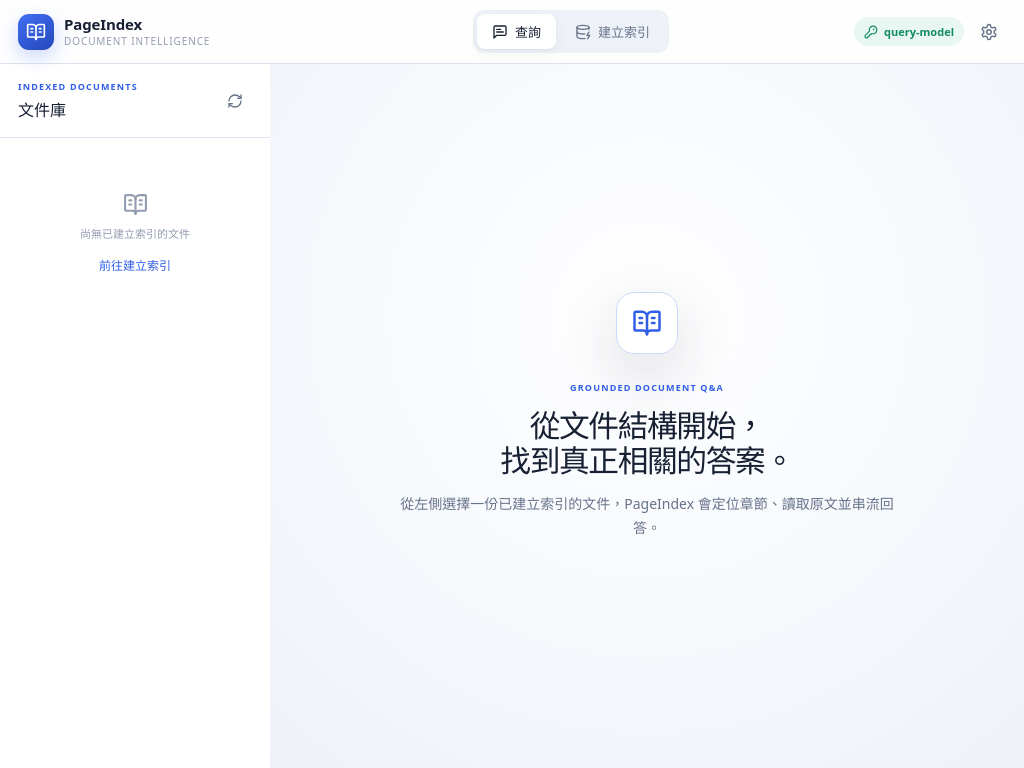
Test: App › shows the model used by the active main tab
The width and height of the screenshot is (1024, 768).
Expected: the text "query-model" is shown, [854,17,964,46]
Click the button "建立索引".
click(612, 32)  # box [560,14,665,49]
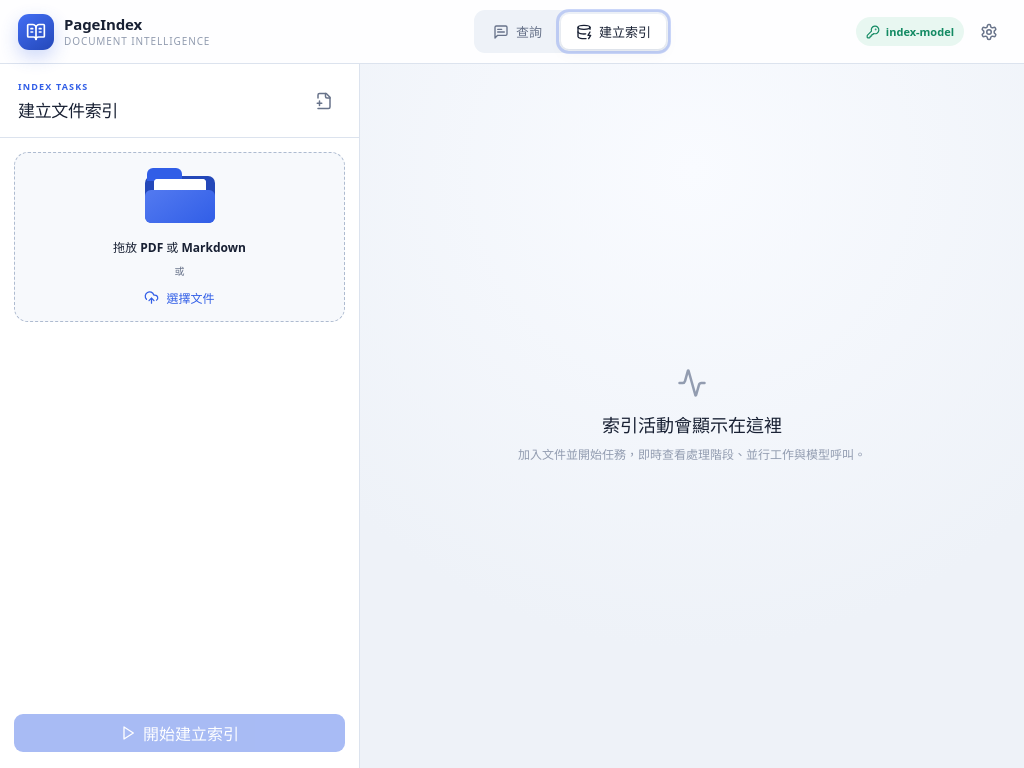
Now the text "index-model" is shown, box [856,17,964,46]
Now the text "query-model" is gone
Click the button "查詢".
click(517, 32)  # box [478,14,557,49]
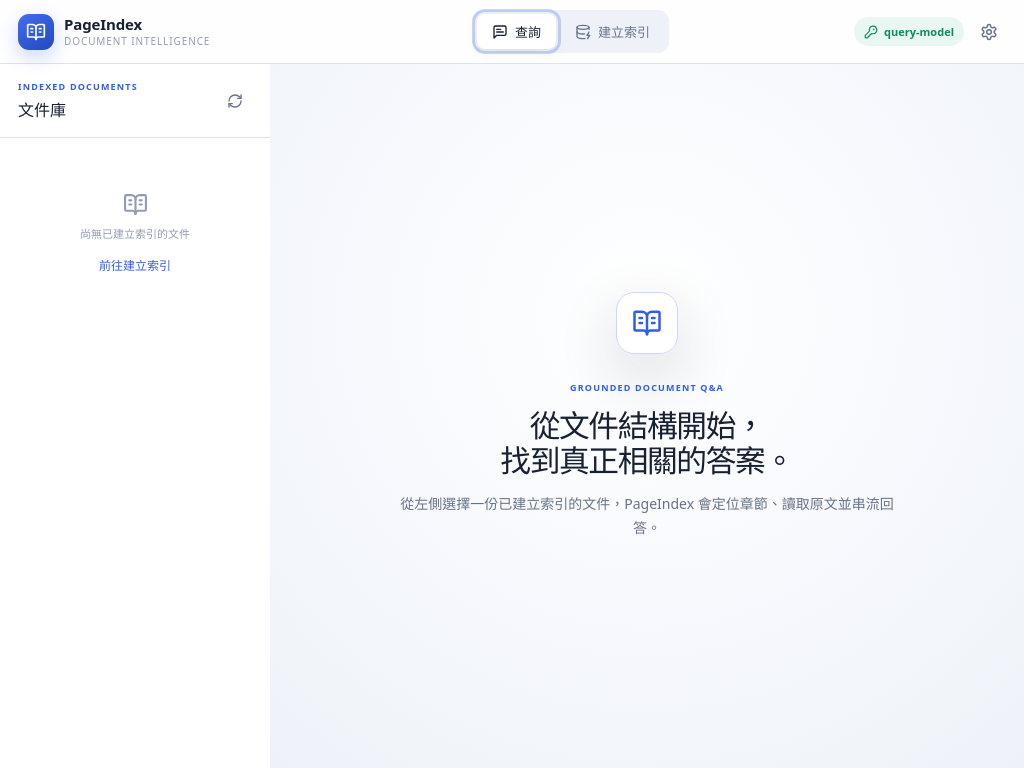
Now the text "query-model" is shown, box [854,17,964,46]
